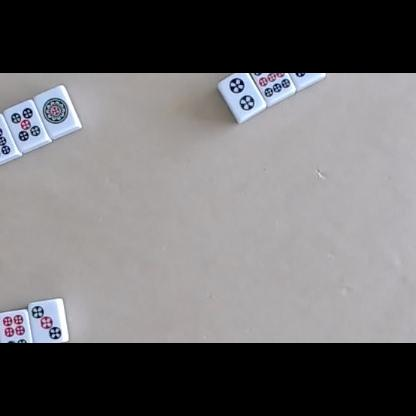1p: (41, 96, 70, 125)
2p: (229, 77, 256, 111)
3p: (31, 305, 63, 340)
4p: (286, 73, 316, 77)
5p: (10, 107, 42, 142)
6p: (1, 313, 28, 343)
8p: (0, 117, 10, 159)
9p: (252, 73, 290, 97)
